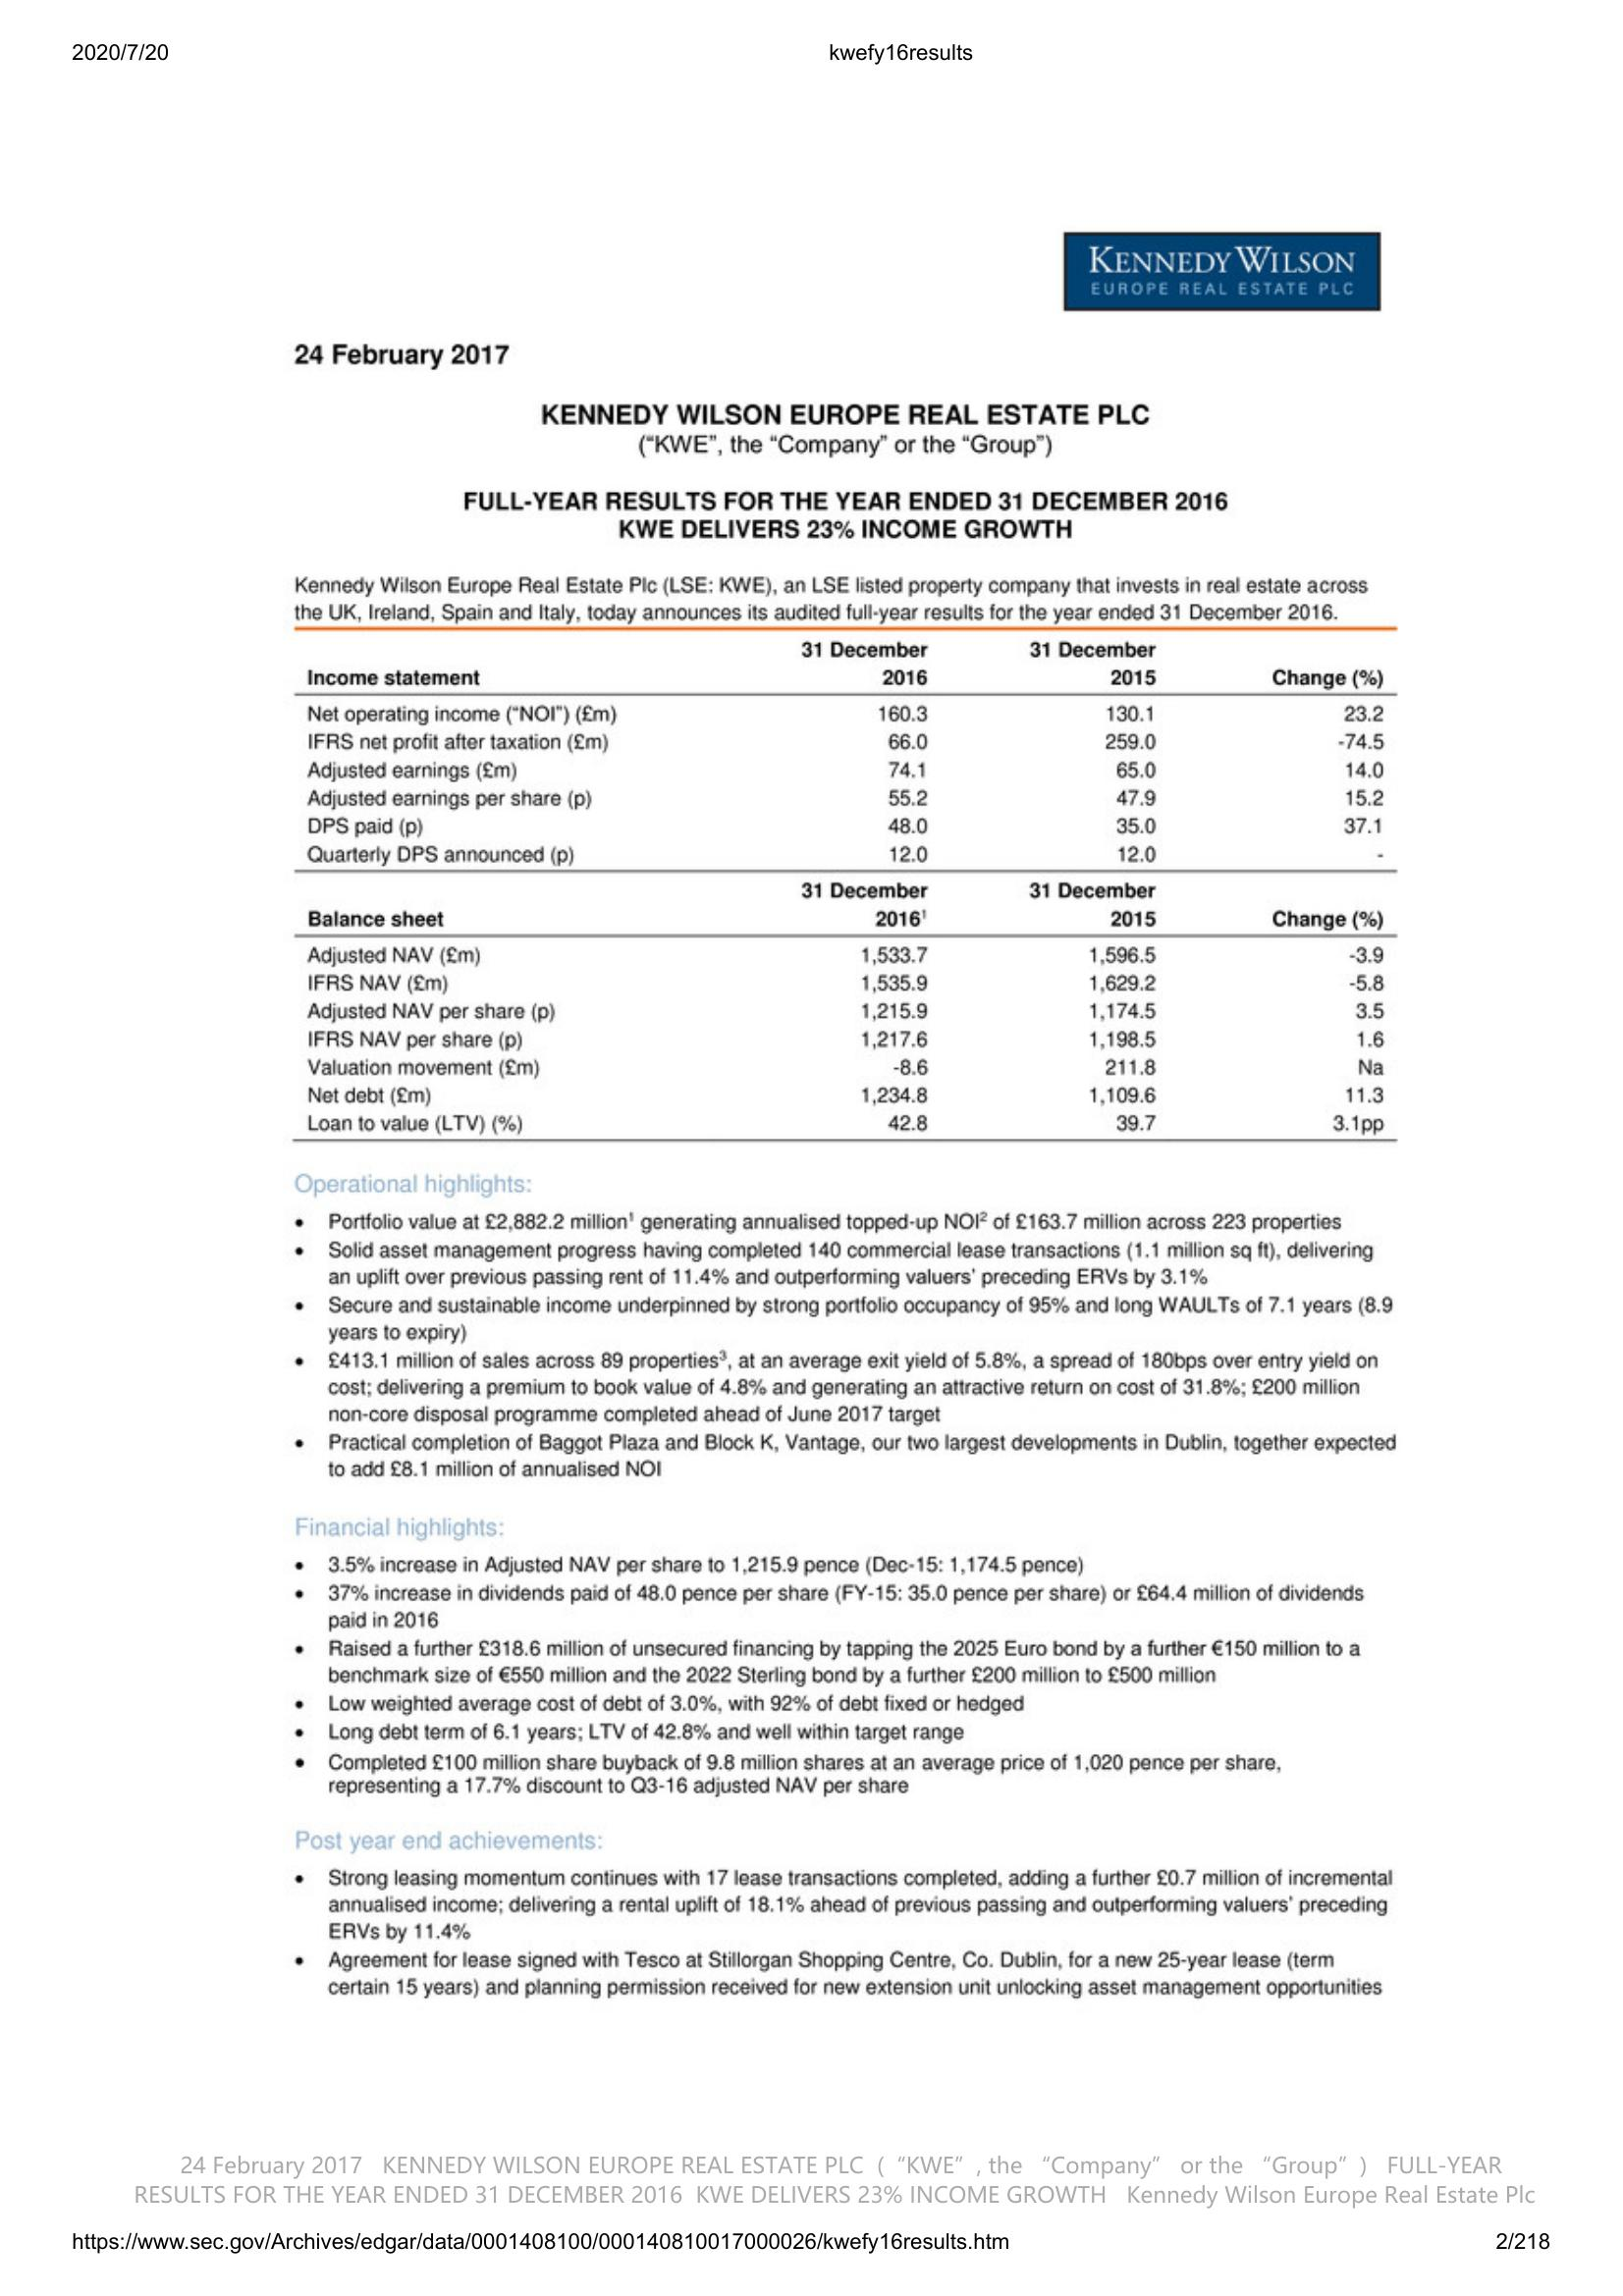table: (290, 621, 1402, 1152)
